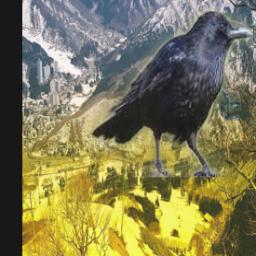Crow: (93, 11, 254, 177)
